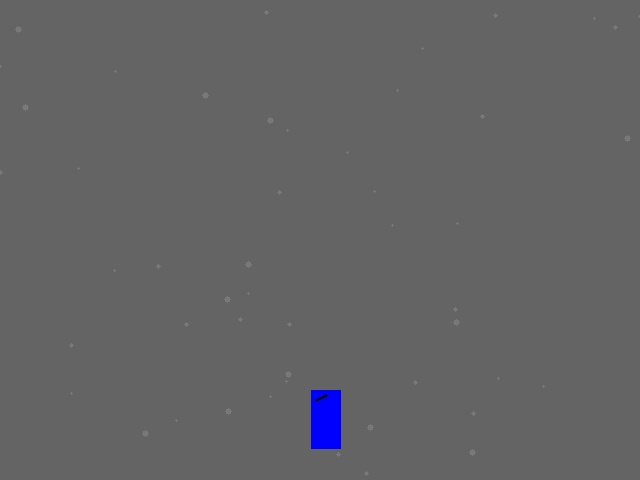motorcycle: (311, 390, 340, 448)
